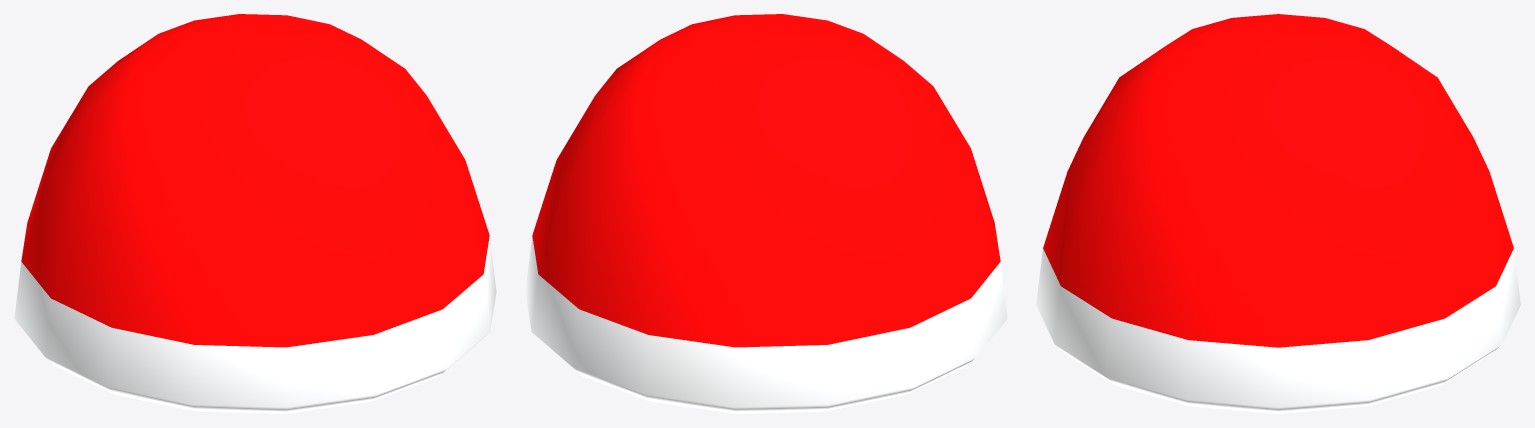
Rendered from Candy_15.glb.
3 renders of one model, left to right at view 1: azimuth 30°, elevation 25°; view 2: azimuth 150°, elevation 25°; view 3: azimuth 270°, elevation 25°, orthographic.
Parts seen in each view (by area): view 1: Candy_15; view 2: Candy_15; view 3: Candy_15.
Part boxes in pixels (left/top/right/bottom): Candy_15: left=14, top=14, right=496, bottom=413; Candy_15: left=525, top=14, right=1007, bottom=413; Candy_15: left=1036, top=14, right=1520, bottom=413.
Bounding box in the file's own units: 2.04 × 1.28 × 2.04.
1 material, 1 textured.
